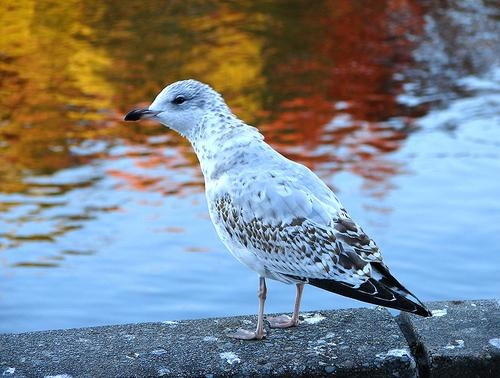bird: (125, 79, 432, 334)
